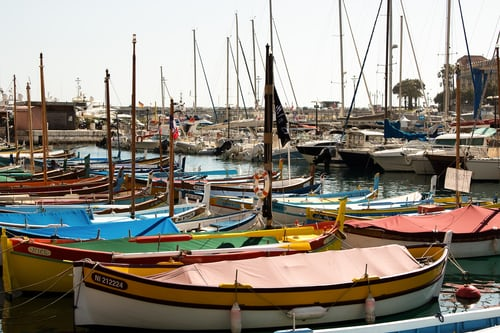yacht: (70, 241, 452, 325)
